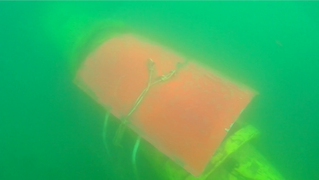4: (54, 9, 75, 30)
leak: (74, 32, 255, 177)
pipe: (113, 118, 284, 180), (42, 1, 130, 81)
